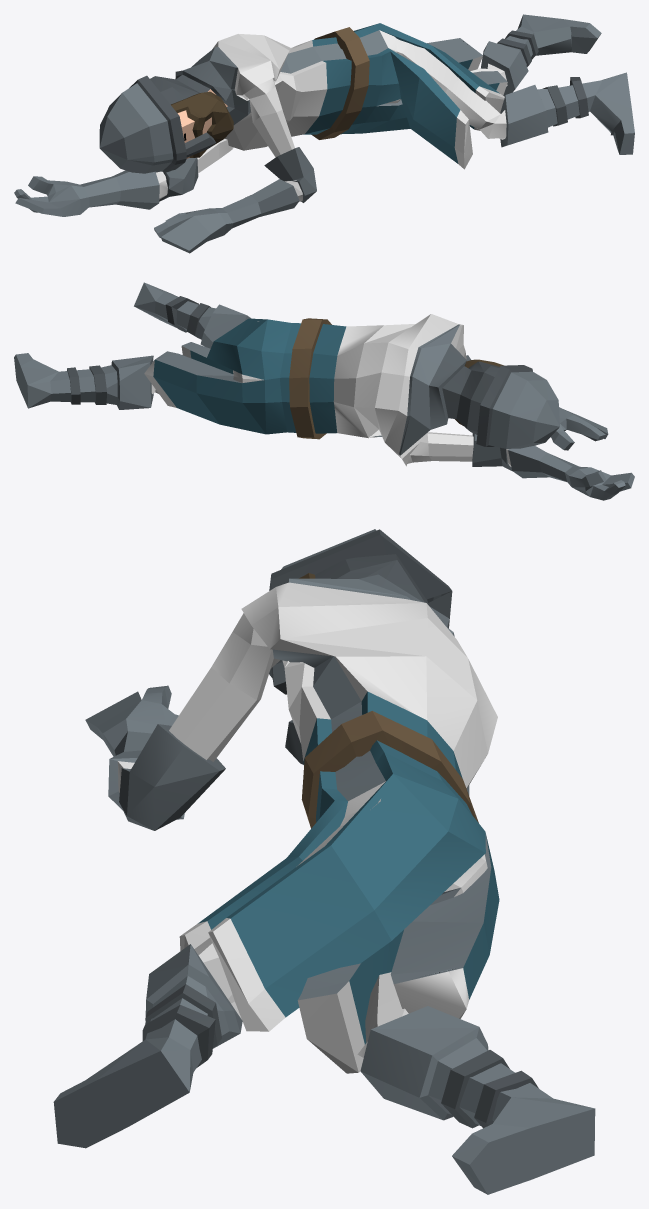
Rendered from SM_Dead_Soldier_04.fbx.
3 renders of one model, top to bottom at view 1: azimuth 30°, elevation 25°; view 2: azimuth 150°, elevation 25°; view 3: azimuth 270°, elevation 25°, orthographic. The views are drawn at different scales.
Parts seen in each view (by area): view 1: SM_Dead_Soldier_04; view 2: SM_Dead_Soldier_04; view 3: SM_Dead_Soldier_04.
Part boxes in pixels (<box>): SM_Dead_Soldier_04: <box>14,14,634,253</box>; SM_Dead_Soldier_04: <box>14,282,634,500</box>; SM_Dead_Soldier_04: <box>53,529,595,1194</box>.
Bounding box in the file's own units: 213 × 45.91 × 84.3.
